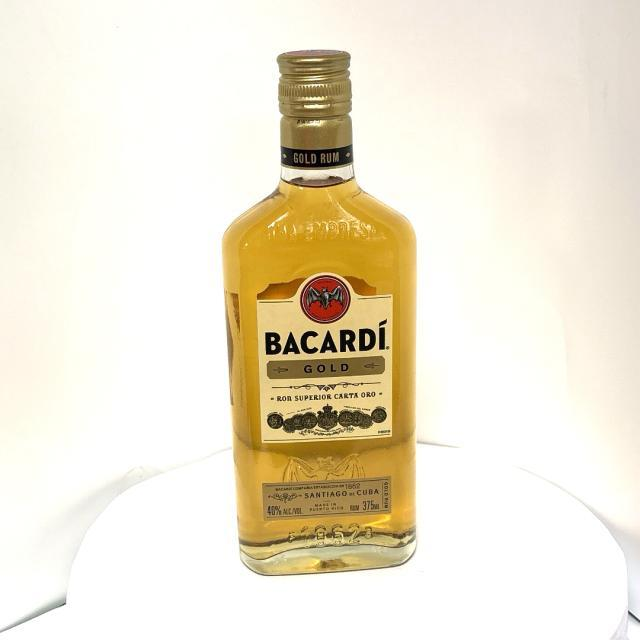BACARDI GOLD 375ML: (220, 49, 418, 579)
